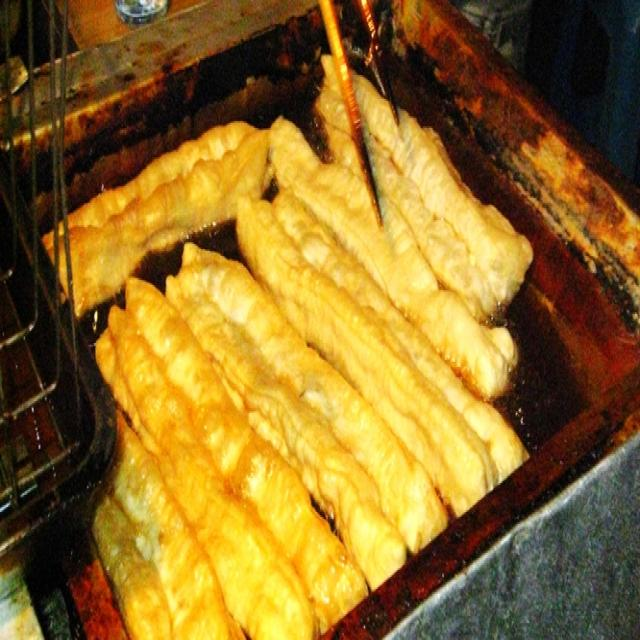炸货点心: (33, 72, 556, 628)
